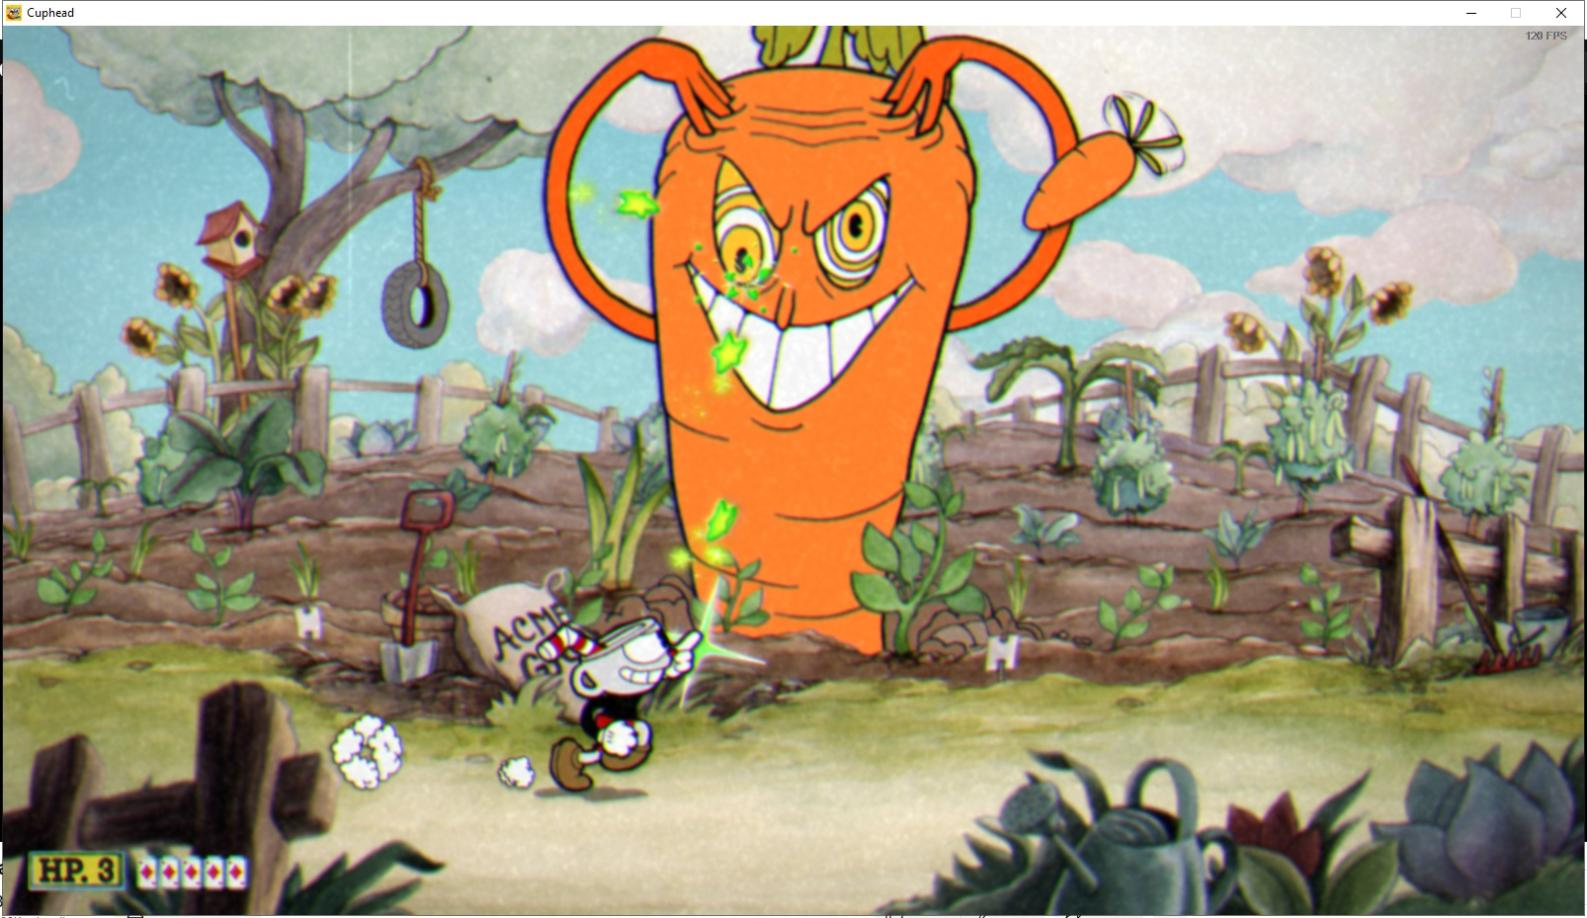carrot: (1024, 73, 1186, 238)
hp3: (94, 852, 123, 891)
player: (522, 603, 687, 809)
